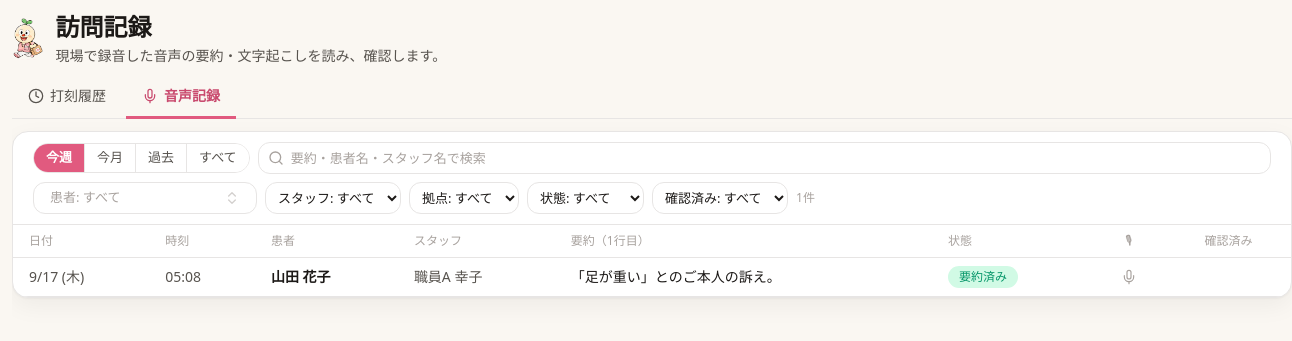
Test: RecordsPage — 音声記録タブ › 1 文字の間は q を送らず「2 文字以上」を案内する (M-1)
The width and height of the screenshot is (1292, 341).
Type "足" into the search field named "訪問記録を検索".
click(764, 158); type("足")  # box [258, 142, 1271, 174]
Wait 350 ms
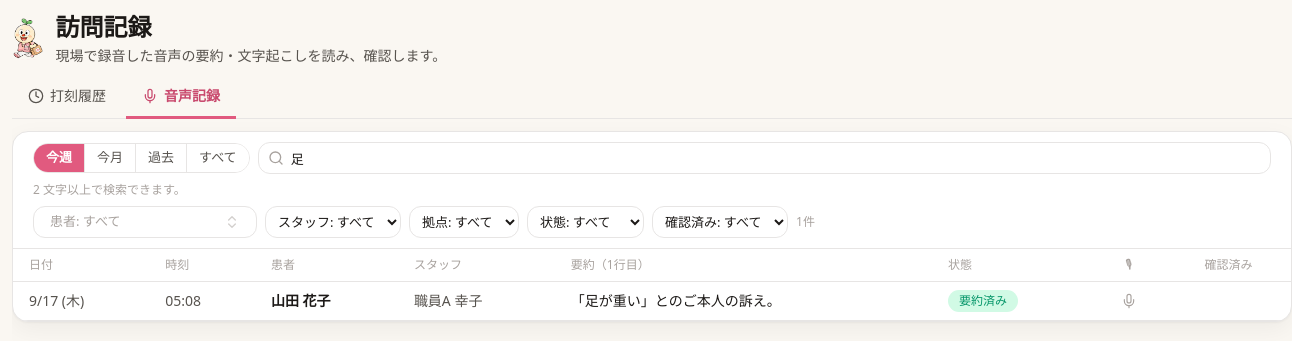
Now the text with test id "records-search-hint" shows "2 文字以上", box [33, 181, 186, 198]
2 文字目で送られ、案内は消える。
Replace the text in the search field named "訪問記録を検索" with "足が" at (764, 158), box [258, 142, 1271, 174]
Wait 350 ms
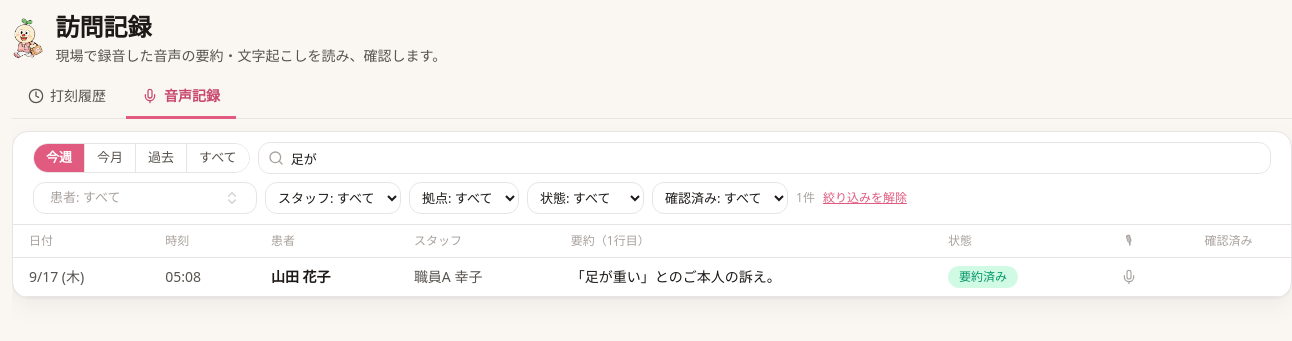
Now the text with test id "records-search-hint" is gone
